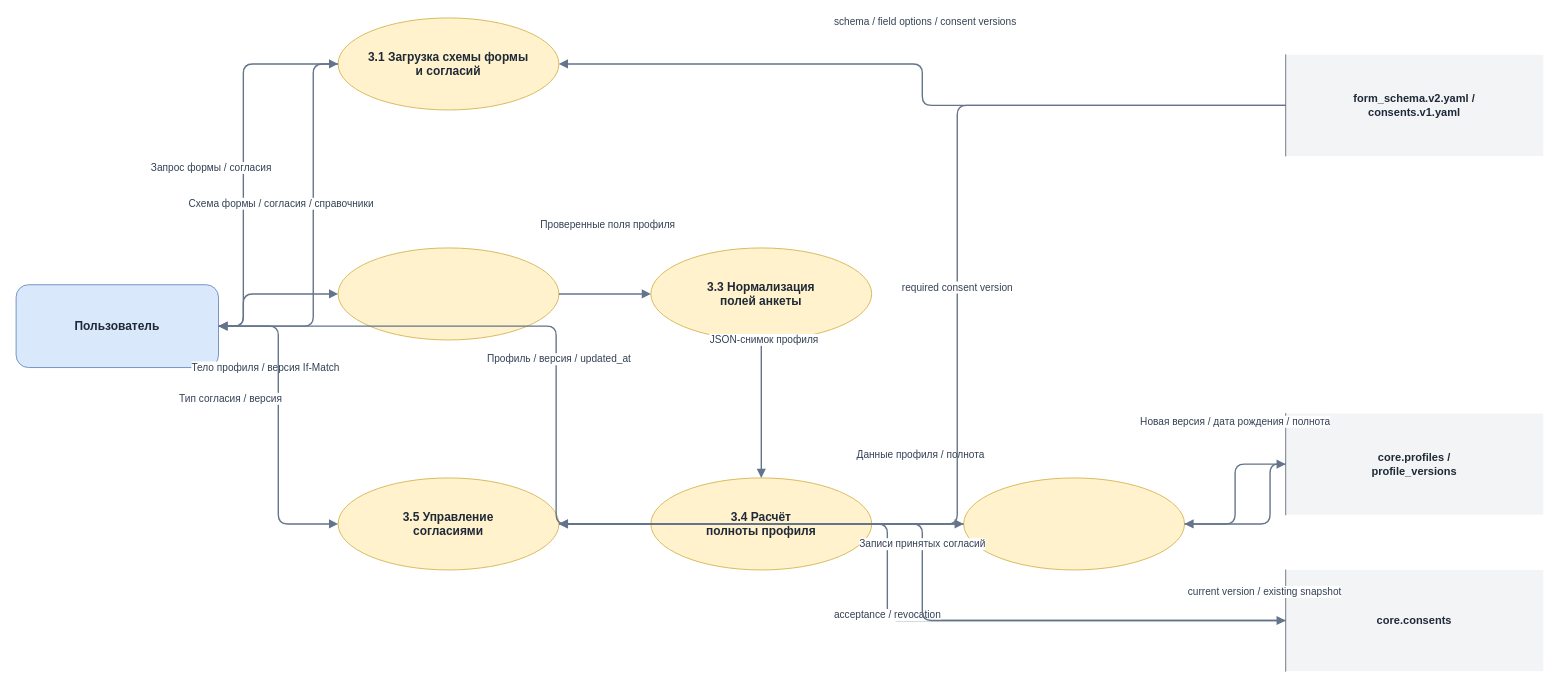
Image size: 1559x687. Some labels were removed from this diagram. Each missing label, with the centre of its shape:
"3.2 Валидация анкеты и возраста" goes at point (448, 293).
"3.6 Сохранение версий профиля" goes at point (1073, 523).
